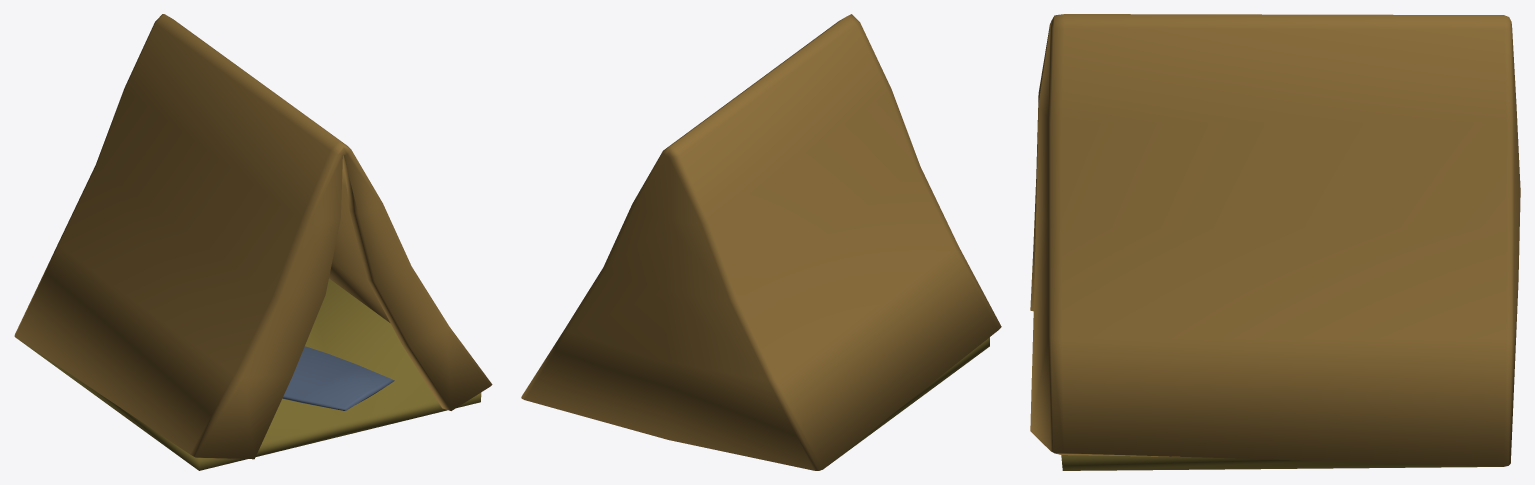
Rendered from Tente.fbx.
The picture shows the model from 3 angles, left to right: view 1: azimuth 30°, elevation 25°; view 2: azimuth 150°, elevation 25°; view 3: azimuth 270°, elevation 25°; orthographic projection. The views are drawn at different scales.
Visible parts, largest first — view 1: Tente; view 2: Tente; view 3: Tente.
Boxes of the visible parts, box(x1,y1,x2,y2) form: Tente: box(14, 14, 492, 470); Tente: box(521, 14, 1001, 470); Tente: box(1030, 14, 1520, 470).
Bounding box in the file's own units: 198 × 186 × 223.
